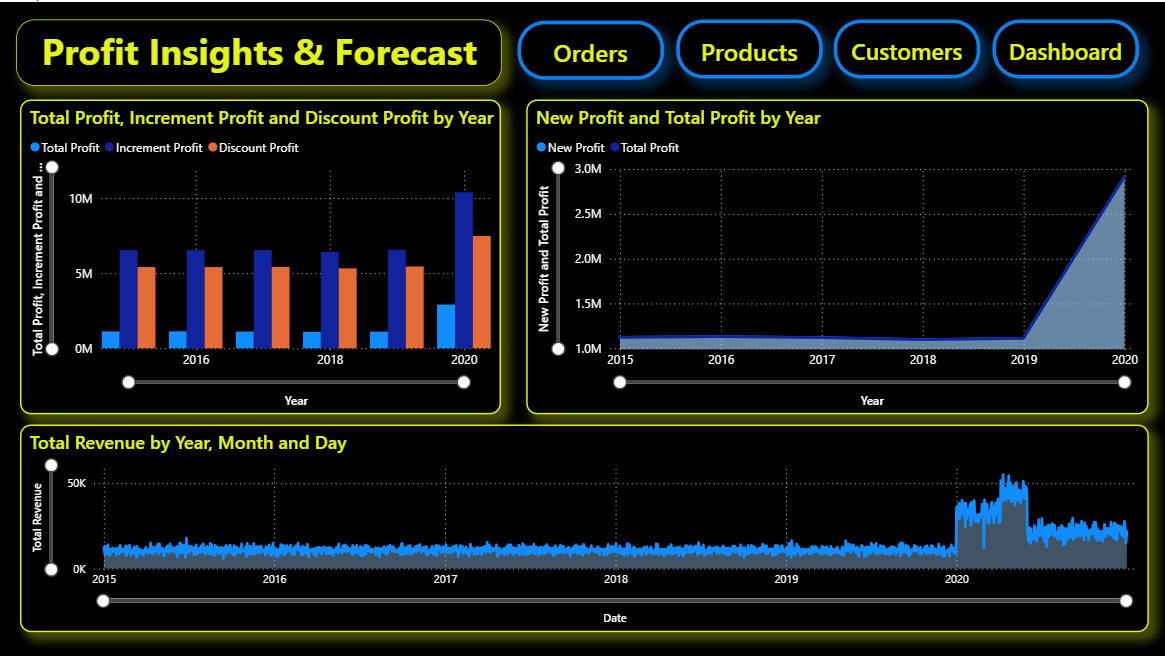

This screenshot's page, from the dashboard's own definition file:
{"tool":"powerbi","page":{"name":"Page 5","canvas":[1280,720],"ordinal":4},"visuals":[{"type":"textbox","title":"Profit Insights & Forecast","box":[17.8,19.2,532.4,72.7],"z":0},{"type":"lineChart","fields":{"Y":["Flipkart Sales Dataset.Total Revenue"],"Category":["DateTable.Date.Variation.Date Hierarchy.Year","DateTable.Date.Variation.Date Hierarchy.Month","DateTable.Date.Variation.Date Hierarchy.Day"]},"box":[22,463.8,1239.1,227.8],"z":1000},{"type":"clusteredColumnChart","fields":{"Category":["DateTable.Year"],"Y":["Flipkart Sales Dataset.Total Profit","Flipkart Sales Dataset.Increment Profit","Flipkart Sales Dataset.Discount Profit"]},"box":[22,107,528.3,345.8],"z":2000},{"type":"lineChart","fields":{"Category":["DateTable.Year"],"Y":["Flipkart Sales Dataset.New Profit","Flipkart Sales Dataset.Total Profit"]},"box":[577.7,107,683.4,345.8],"z":3000},{"type":"actionButton","box":[568.6,21.1,160.5,64.5],"z":4000},{"type":"actionButton","box":[742.3,19.2,160.5,64.5],"z":5000},{"type":"actionButton","box":[915.9,19.2,160.5,64.5],"z":6000},{"type":"actionButton","box":[1089.5,19.2,160.5,64.5],"z":7000}]}

Visuals, with their boxes in screenshot pixels (x1, y1, x2, y2), scaled from the page's 1280x720 canvas onto the 1165x656 screenshot:
"Profit Insights & Forecast" textbox: bbox(16, 17, 501, 84)
lineChart - Flipkart Sales Dataset.Total Revenue x DateTable.Date.Variation.Date Hierarchy.Year: bbox(20, 423, 1148, 630)
clusteredColumnChart - DateTable.Year x Flipkart Sales Dataset.Total Profit: bbox(20, 97, 501, 413)
lineChart - DateTable.Year x Flipkart Sales Dataset.New Profit: bbox(526, 97, 1148, 413)
actionButton: bbox(518, 19, 664, 78)
actionButton: bbox(676, 17, 822, 76)
actionButton: bbox(834, 17, 980, 76)
actionButton: bbox(992, 17, 1138, 76)
